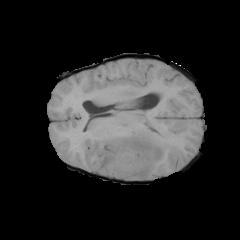glioma: (98, 121, 175, 177)
